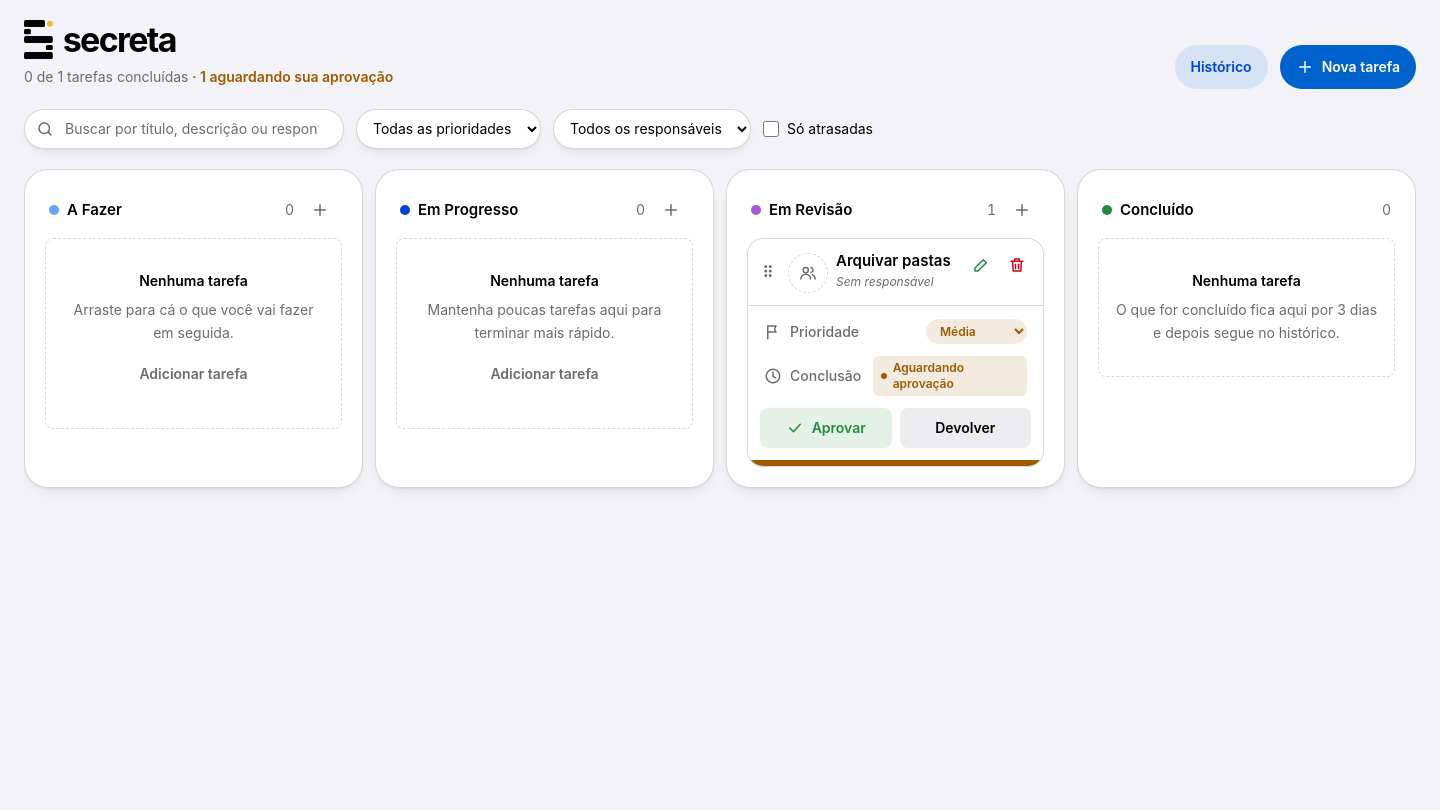
Scenario: App › secretário vê o pedido e aprova a conclusão
Expected: the text "· 1 aguardando sua aprovação" is shown, [188,68,393,85]
Click the button with aria-label "Aprovar conclusão de Arquivar pastas" at (826, 428), box [760,408,892,448]
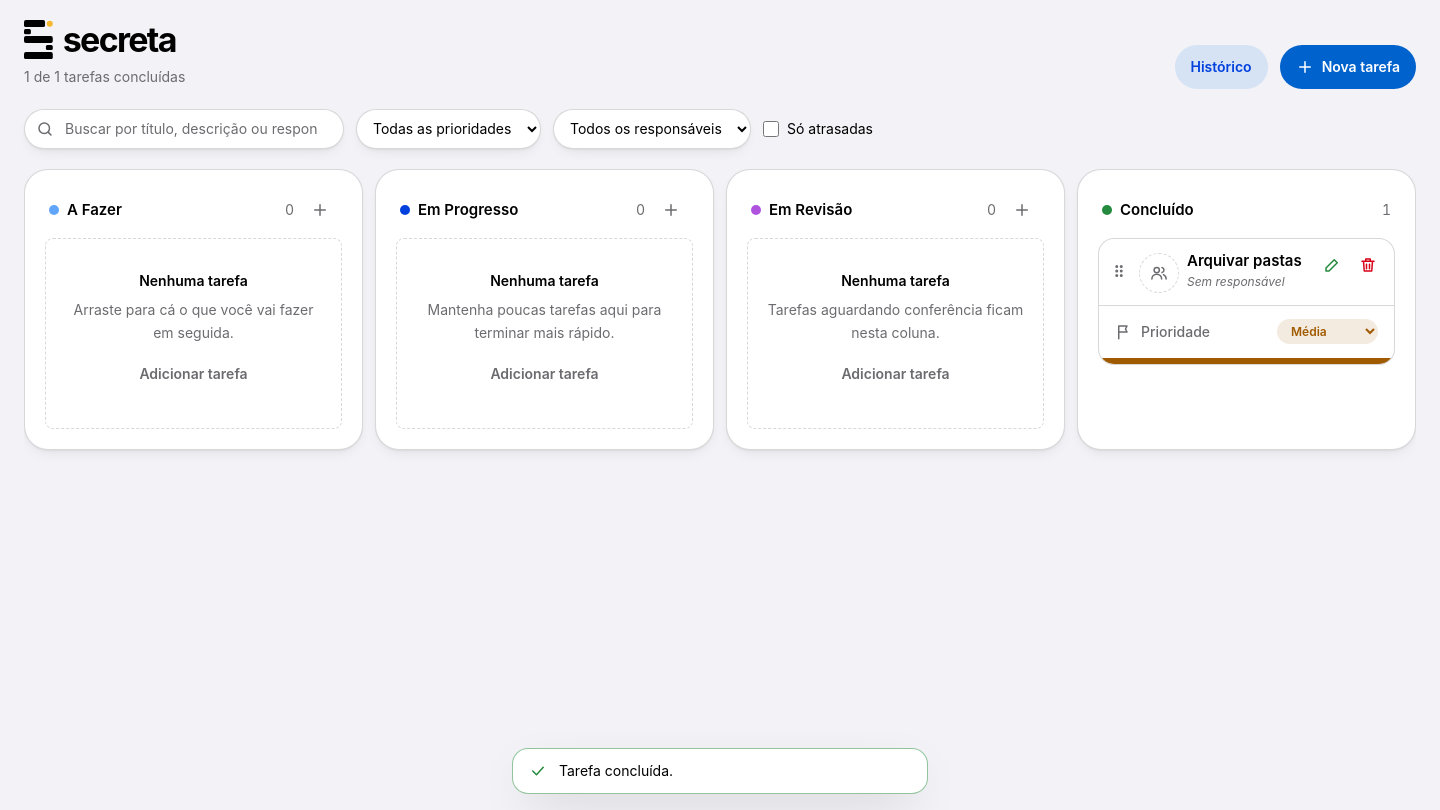
Expected: the text "Aguardando aprovação" is gone
